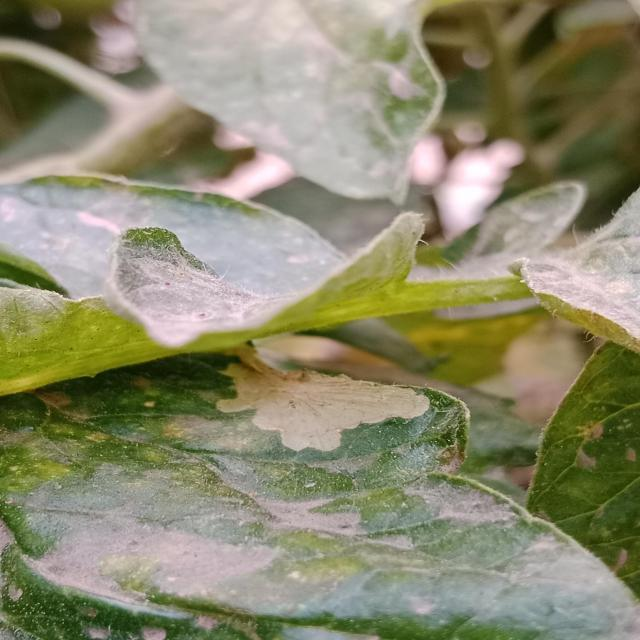Tuta absoluta: (212, 351, 432, 473)
